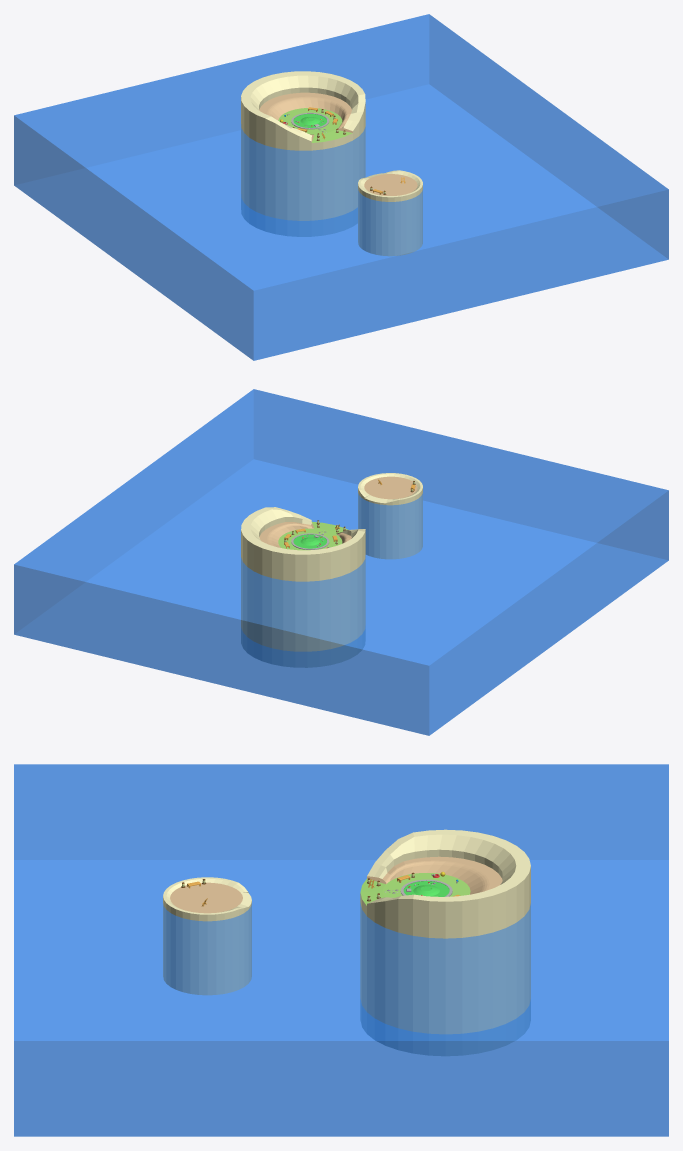
Rendered from MemorialRoom_without_object 1.fbx.
3 views of the same model, one above another, from view 1: azimuth 30°, elevation 25°; view 2: azimuth 150°, elevation 25°; view 3: azimuth 270°, elevation 25° (orthographic). The views are drawn at different scales.
Visible parts, largest first — view 1: Sea, Hall, Entrance; view 2: Sea, Hall, Entrance; view 3: Sea, Hall, Entrance.
Boxes of the visible parts, x1,y1,x2,y2 form: Sea: (14, 14, 668, 360); Hall: (241, 71, 365, 236); Entrance: (358, 170, 422, 256); Sea: (14, 389, 668, 735); Hall: (241, 507, 365, 667); Entrance: (358, 473, 422, 559); Sea: (14, 764, 668, 1136); Hall: (360, 829, 530, 1055); Entrance: (163, 877, 251, 995).
Size of the model in its own units: 43995 by 11453 by 43995.
